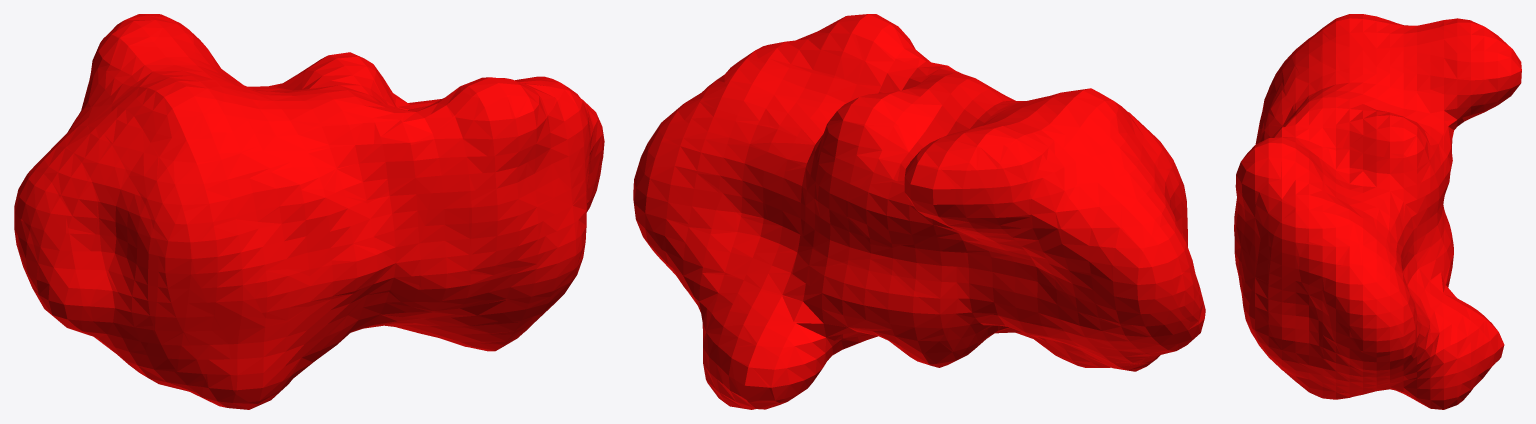
The model's file is iscA_coarse.dae.
3 renders of one model, left to right at view 1: azimuth 30°, elevation 25°; view 2: azimuth 150°, elevation 25°; view 3: azimuth 270°, elevation 25°, orthographic. The views are drawn at different scales.
Parts seen in each view (by area): view 1: iscA; view 2: iscA; view 3: iscA.
Part boxes in pixels (<box>): iscA: <box>14,14,604,409</box>; iscA: <box>633,14,1205,409</box>; iscA: <box>1234,14,1521,409</box>.
Size of the model in its own units: 69.27 by 40.79 by 37.78.
